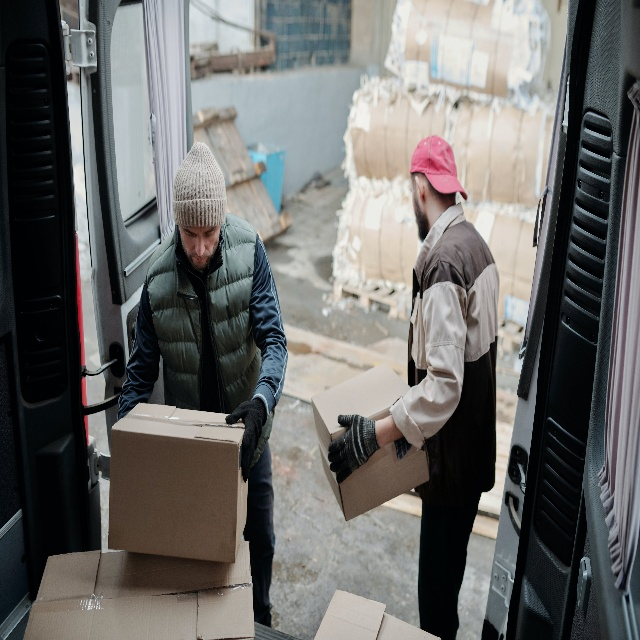Guantes: (327, 409, 382, 487), (224, 395, 268, 484)
